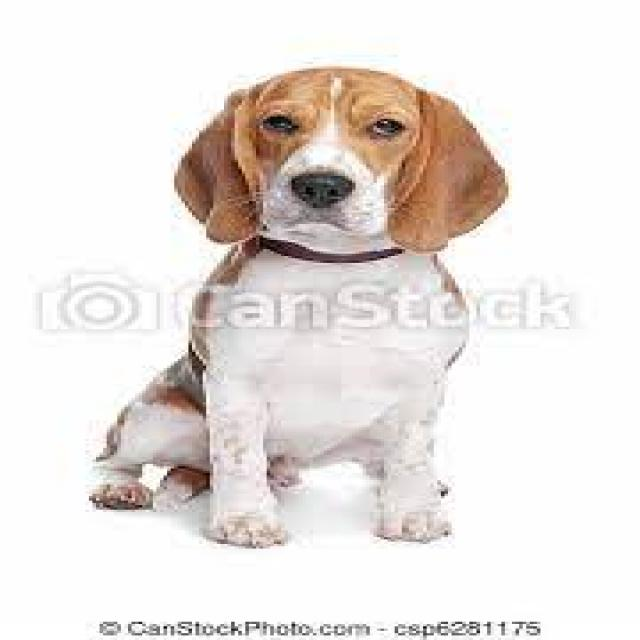Dog: (86, 63, 511, 551)
